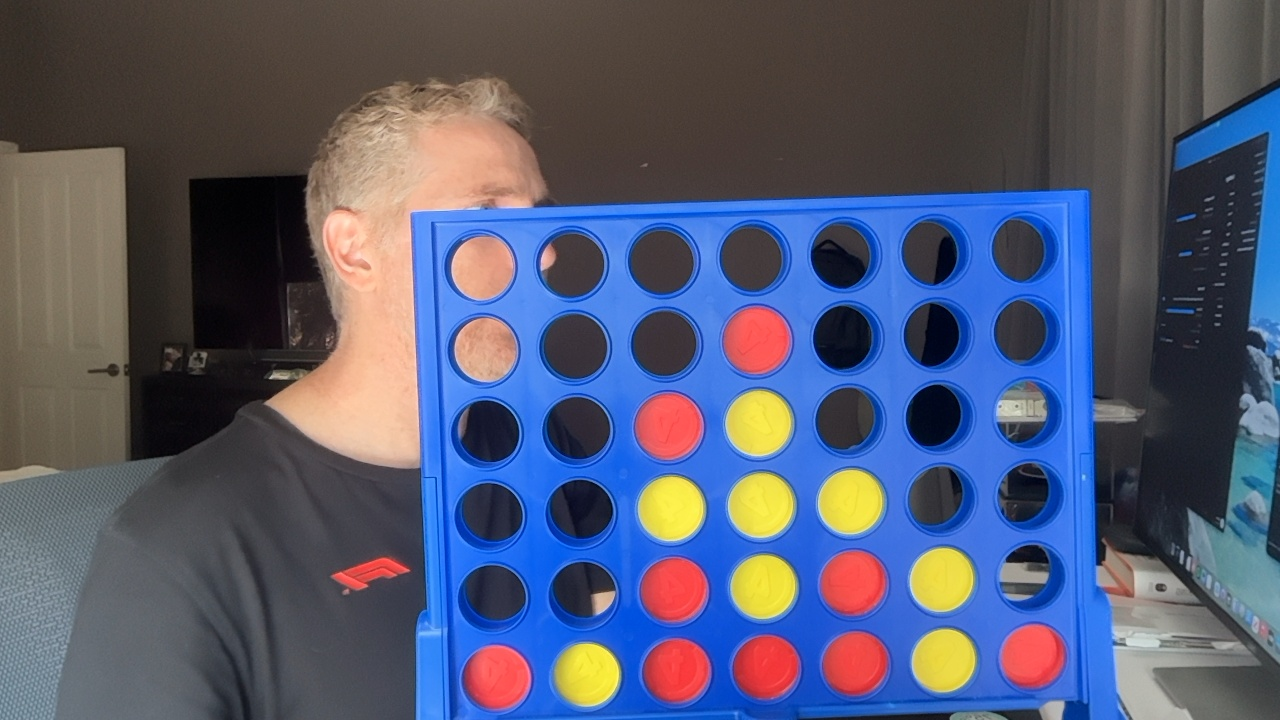red piece: (723, 306, 791, 374), (634, 393, 703, 460), (462, 645, 531, 711), (640, 557, 708, 623), (642, 639, 710, 704), (732, 635, 798, 701), (822, 631, 888, 696), (820, 550, 886, 615), (1000, 624, 1065, 689)
yellow piece: (725, 389, 793, 457), (637, 475, 705, 542), (730, 554, 797, 620), (728, 472, 794, 539), (553, 642, 620, 708), (818, 469, 884, 535), (910, 547, 975, 612), (912, 628, 976, 693)
